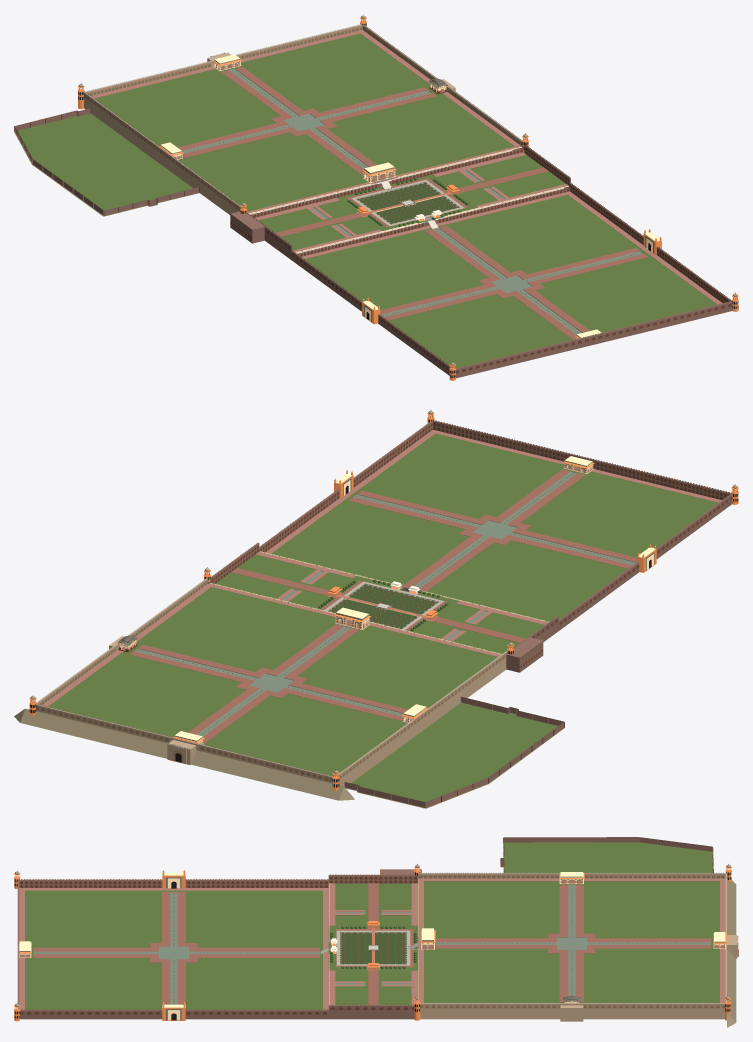
File: shalimar_gardens.glb
3 views of the same model, one above another, from view 1: azimuth 30°, elevation 25°; view 2: azimuth 150°, elevation 25°; view 3: azimuth 270°, elevation 25° (orthographic). The views are drawn at different scales.
Parts seen in each view (by area): view 1: m_lawn, m_brick_paving, m_wall_brick, m_walk_pale, m_water_canal, m_wall_plaster, m_wall_niche, m_wall_panel, m_lime_plaster, m_water_green, m_tank_coping, m_wall_plaster_panel (+4 smaller); view 2: m_lawn, m_brick_paving, m_wall_brick, m_walk_pale, m_wall_plaster, m_water_canal, m_kacha_bank, m_wall_panel, m_wall_niche, m_lime_plaster, m_water_green, m_wall_plaster_panel (+5 smaller); view 3: m_lawn, m_brick_paving, m_wall_brick, m_walk_pale, m_wall_plaster, m_water_canal, m_wall_niche, m_wall_panel, m_water_green, m_wall_plaster_panel, m_lime_plaster, m_red_sandstone (+6 smaller).
Boxes of the visible parts, x1=… form: m_lawn: x1=15, y1=33, x2=717, y2=368; m_brick_paving: x1=174, y1=63, x2=648, y2=339; m_wall_brick: x1=14, y1=108, x2=732, y2=378; m_walk_pale: x1=91, y1=30, x2=722, y2=304; m_water_canal: x1=182, y1=69, x2=642, y2=334; m_wall_plaster: x1=84, y1=24, x2=522, y2=214; m_wall_niche: x1=230, y1=146, x2=731, y2=373; m_wall_panel: x1=230, y1=146, x2=730, y2=302; m_lime_plaster: x1=161, y1=54, x2=659, y2=338; m_water_green: x1=357, y1=182, x2=458, y2=224; m_tank_coping: x1=182, y1=68, x2=643, y2=332; m_wall_plaster_panel: x1=84, y1=26, x2=522, y2=209; m_lawn: x1=48, y1=433, x2=718, y2=808; m_brick_paving: x1=122, y1=466, x2=636, y2=764; m_wall_brick: x1=210, y1=420, x2=732, y2=808; m_walk_pale: x1=43, y1=430, x2=721, y2=706; m_wall_plaster: x1=36, y1=578, x2=507, y2=786; m_water_canal: x1=135, y1=472, x2=636, y2=736; m_kacha_bank: x1=14, y1=708, x2=354, y2=800; m_wall_panel: x1=210, y1=421, x2=730, y2=667; m_wall_niche: x1=210, y1=422, x2=732, y2=667; m_lime_plaster: x1=119, y1=456, x2=655, y2=744; m_water_green: x1=328, y1=584, x2=437, y2=629; m_wall_plaster_panel: x1=36, y1=580, x2=507, y2=781; m_lawn: x1=25, y1=842, x2=719, y2=1009; m_brick_paving: x1=20, y1=879, x2=738, y2=1009; m_wall_brick: x1=17, y1=837, x2=713, y2=1019; m_walk_pale: x1=19, y1=878, x2=725, y2=1009; m_wall_plaster: x1=418, y1=873, x2=738, y2=1021; m_water_canal: x1=33, y1=885, x2=711, y2=1004; m_wall_niche: x1=20, y1=876, x2=417, y2=1014; m_wall_panel: x1=19, y1=876, x2=417, y2=887; m_water_green: x1=340, y1=932, x2=406, y2=964; m_wall_plaster_panel: x1=418, y1=875, x2=725, y2=1008; m_lime_plaster: x1=19, y1=872, x2=725, y2=1020; m_red_sandstone: x1=14, y1=866, x2=731, y2=1021.
Size of the model in its own units: 379 by 23.42 by 628.
Materials: 31 (1 with a texture image).
